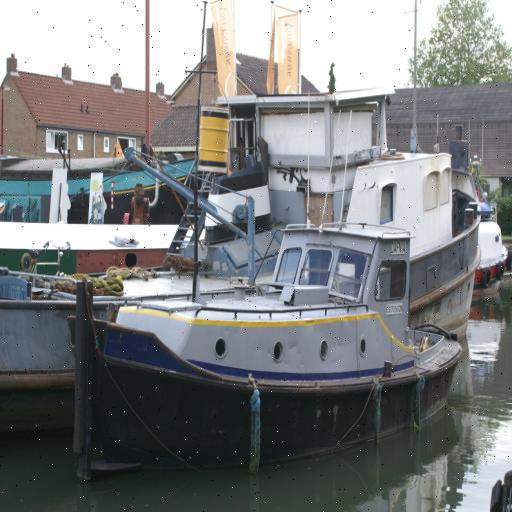tugboat: (64, 210, 469, 493)
